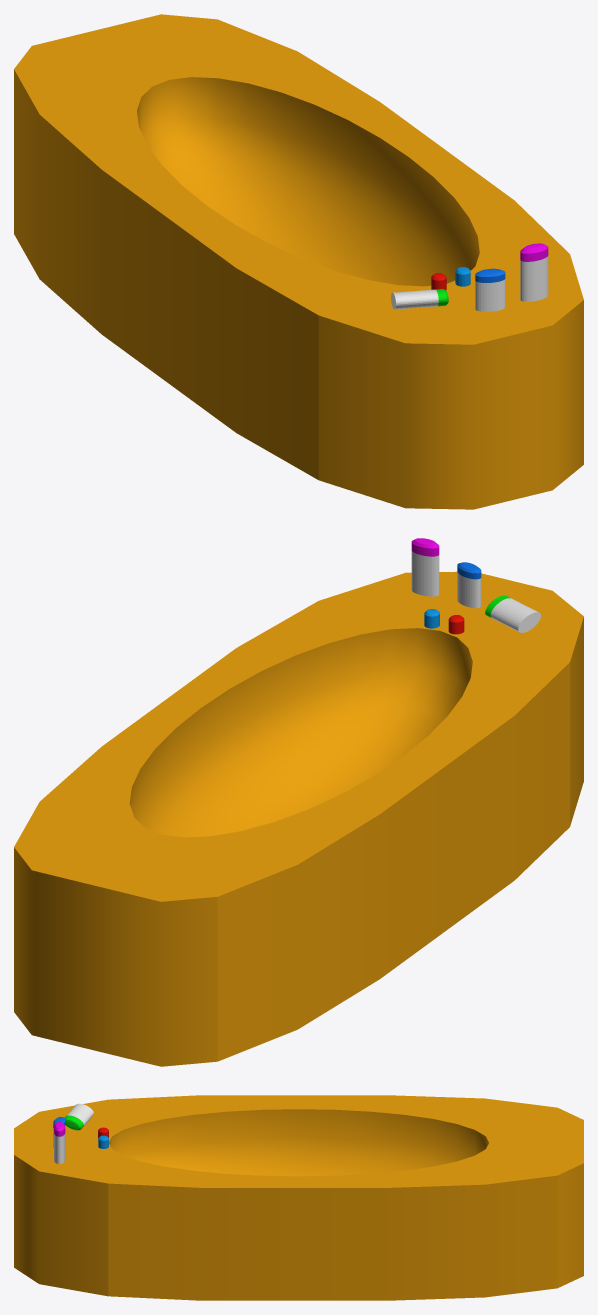
Rendered from Küvet.fbx.
3 renders of one model, top to bottom at view 1: azimuth 30°, elevation 25°; view 2: azimuth 150°, elevation 25°; view 3: azimuth 270°, elevation 25°, orthographic. The views are drawn at different scales.
Parts seen in each view (by area): view 1: Cube.060; view 2: Cube.060; view 3: Cube.060.
Boxes of the visible parts, left/top/right/bottom form: Cube.060: left=14, top=14, right=583, bottom=509; Cube.060: left=14, top=538, right=583, bottom=1066; Cube.060: left=14, top=1095, right=583, bottom=1300.
Size of the model in its own units: 18.46 by 13.71 by 47.91.
